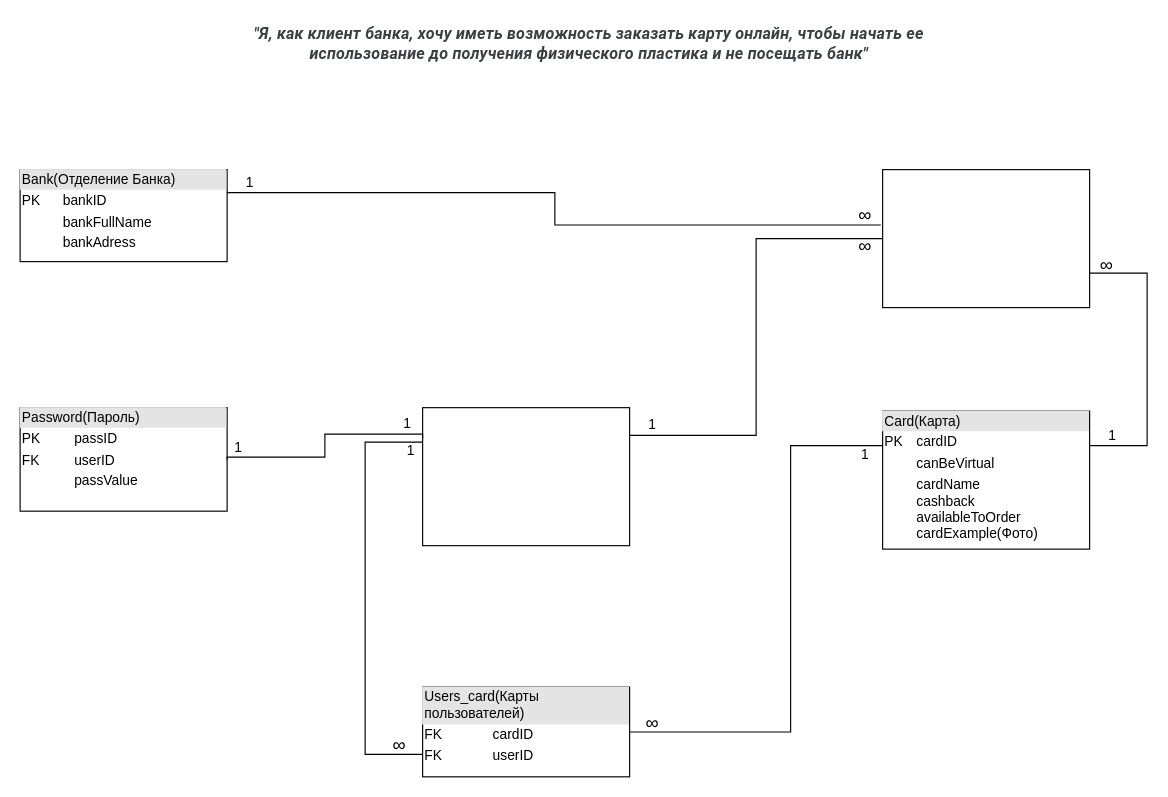
This 1168x797 diagram has some shape labels left out. The centre of each missing label's shape, as x and y in pixels:
Order(Заказ) PK orderID FK FK deliveryAdress userID FK orderData cardID: the point at 985,238
User(Пользователь) PK userID fullName passportData Age phoneNumber workPlace: the point at 525,476
